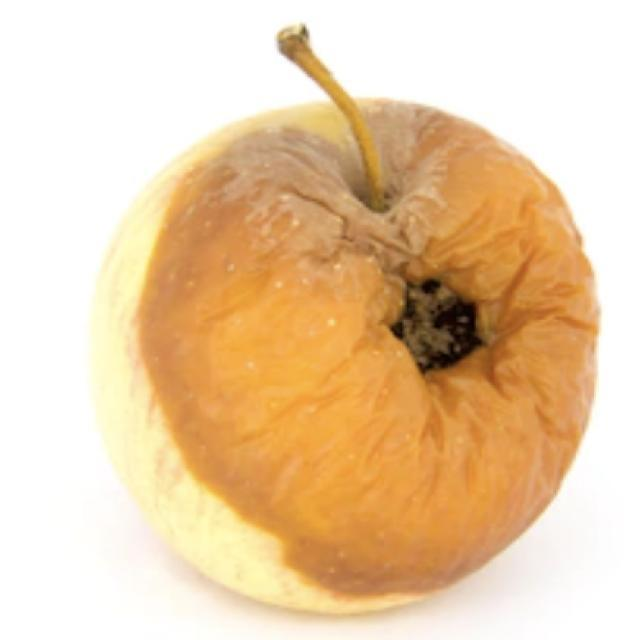Rotten: (135, 105, 600, 598)
